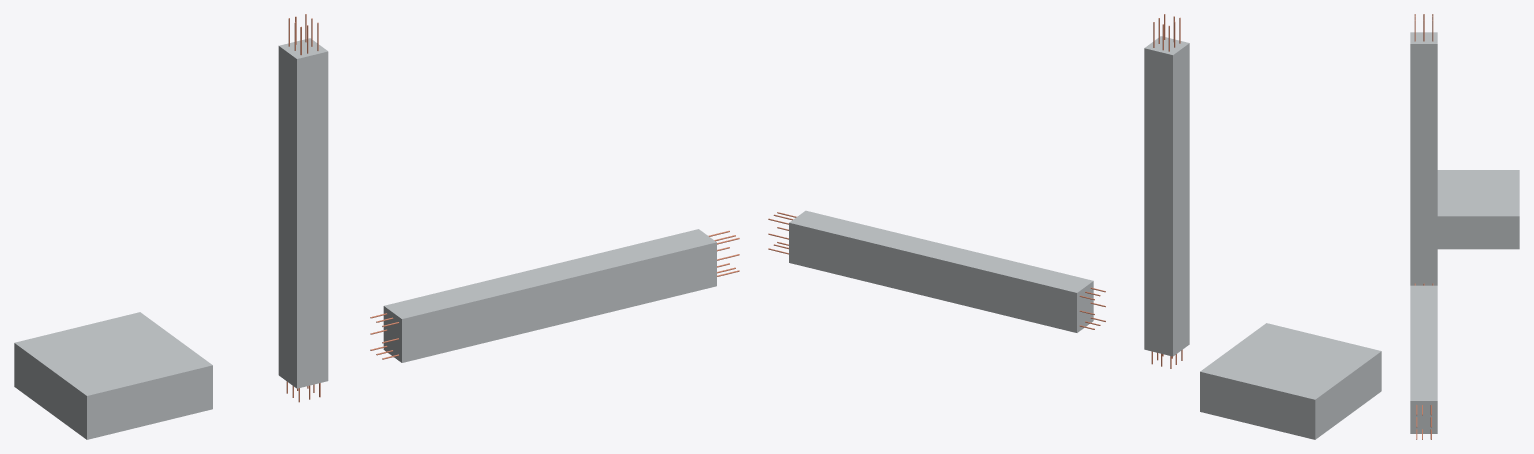
File: detailed-rebar-test.glb
The picture shows the model from 3 angles, left to right: view 1: azimuth 30°, elevation 25°; view 2: azimuth 150°, elevation 25°; view 3: azimuth 270°, elevation 25°; orthographic projection. The views are drawn at different scales.
Parts seen in each view (by area): view 1: IngeTrazo; view 2: IngeTrazo; view 3: IngeTrazo.
Part boxes in pixels (x1=…): IngeTrazo: x1=14, y1=14, x2=739, y2=439; IngeTrazo: x1=768, y1=14, x2=1381, y2=439; IngeTrazo: x1=1410, y1=14, x2=1519, y2=439.
Bounding box in the file's own units: 6.25 × 3.41 × 1.2.
